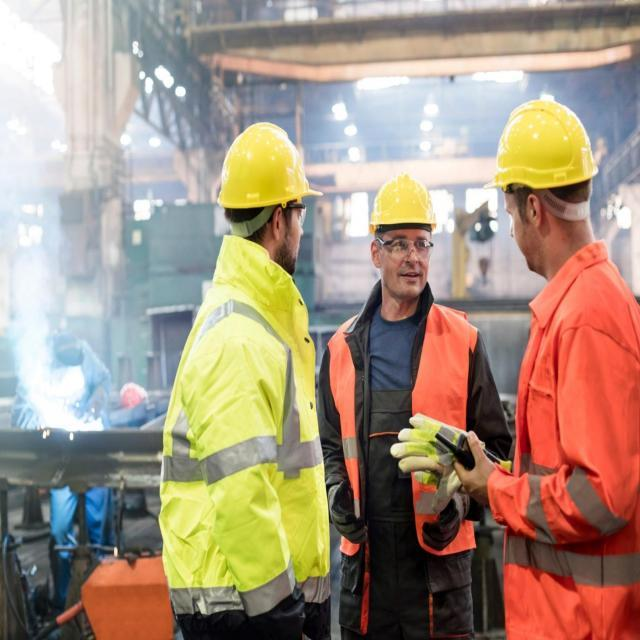reflective_jacket: (158, 261, 326, 622), (489, 253, 636, 637), (325, 292, 486, 558)
safety_helmet: (482, 94, 603, 199), (213, 116, 324, 215), (364, 166, 440, 232)
